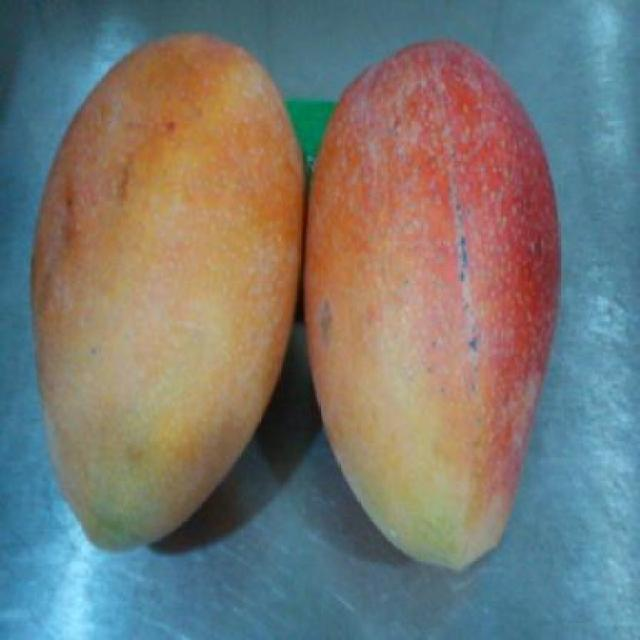Mango: (31, 31, 302, 556), (302, 41, 564, 564)
